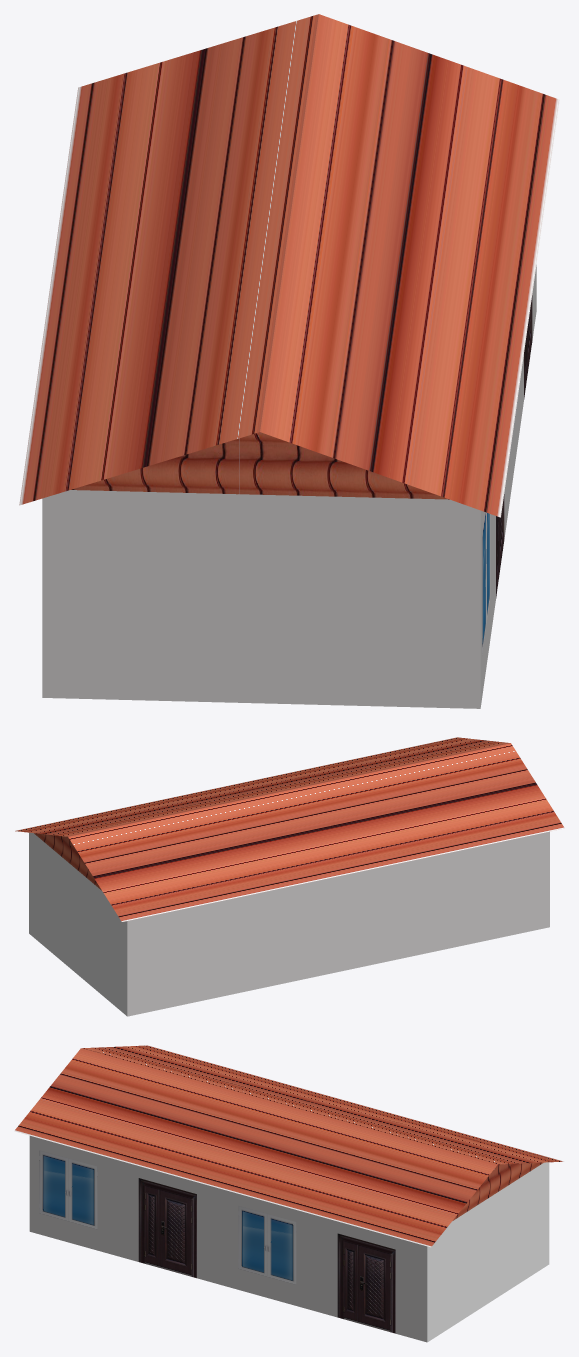
File: ballQicaishi.fbx
3 renders of one model, top to bottom at view 1: azimuth 30°, elevation 25°; view 2: azimuth 150°, elevation 25°; view 3: azimuth 270°, elevation 25°, orthographic. The views are drawn at different scales.
Parts seen in each view (by area): view 1: CityEngineMaterial_2_m, CityEngineMaterial_1_m, CityEngineMaterial_3_m, CityEngineMaterial_4_m; view 2: CityEngineMaterial_2_m, CityEngineMaterial_1_m, CityEngineMaterial_m; view 3: CityEngineMaterial_2_m, CityEngineMaterial_1_m, CityEngineMaterial_m, CityEngineMaterial_4_m, CityEngineMaterial_3_m.
Part boxes in pixels (x1,y1,x2,y2): CityEngineMaterial_2_m: (19,14,559,517); CityEngineMaterial_1_m: (42,265,536,708); CityEngineMaterial_3_m: (482,395,518,655); CityEngineMaterial_4_m: (496,295,532,598); CityEngineMaterial_2_m: (15,737,564,921); CityEngineMaterial_1_m: (127,831,549,1016); CityEngineMaterial_m: (29,832,127,1015); CityEngineMaterial_2_m: (14,1045,563,1247); CityEngineMaterial_1_m: (29,1136,427,1342); CityEngineMaterial_m: (427,1162,549,1342); CityEngineMaterial_4_m: (138,1178,395,1333); CityEngineMaterial_3_m: (39,1150,296,1284).
Size of the model in its own units: 20.6 by 6.74 by 23.74.
